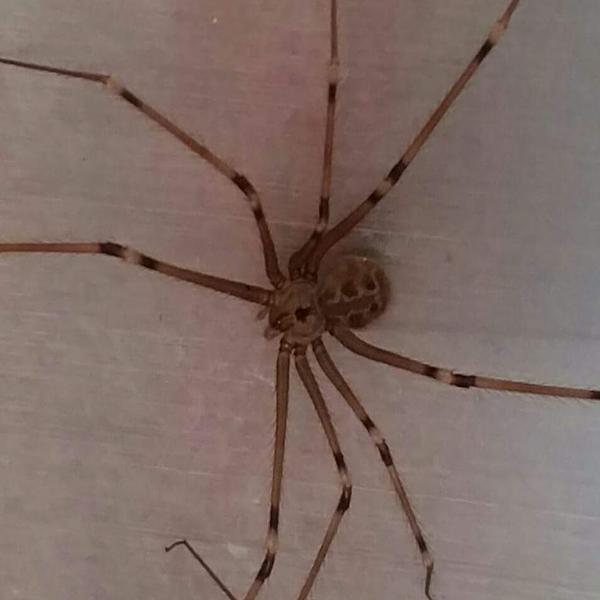Daddy Long Legs Spider: (4, 3, 592, 586)
